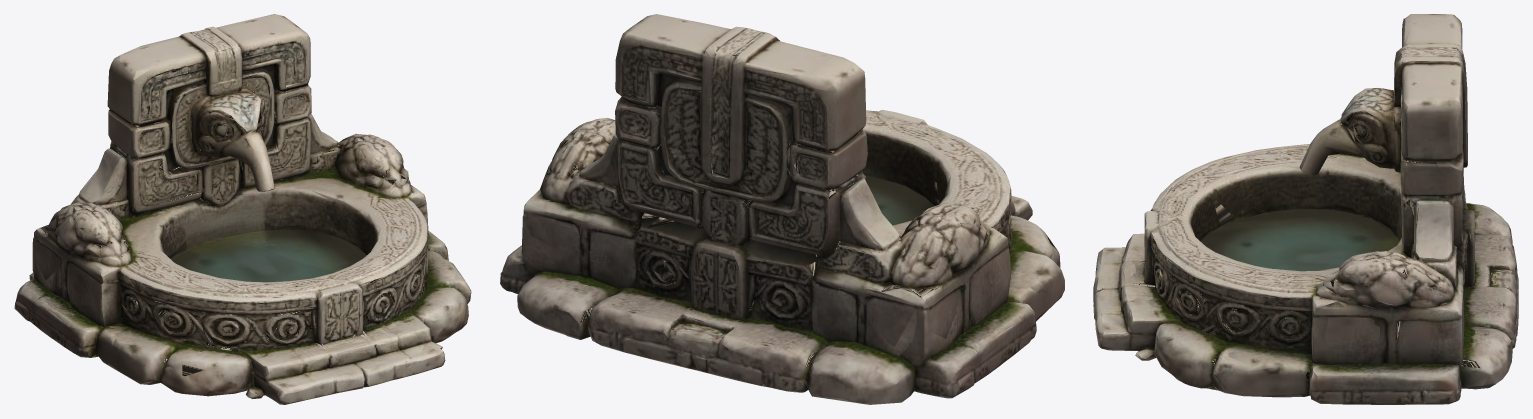
The model's file is eagle_fountain.glb.
The picture shows the model from 3 angles, left to right: view 1: azimuth 30°, elevation 25°; view 2: azimuth 150°, elevation 25°; view 3: azimuth 270°, elevation 25°; orthographic projection. The views are drawn at different scales.
Visible parts, largest first — view 1: turn, mesh_lod; view 2: turn, mesh_lod; view 3: turn, mesh_lod.
Part boxes in pixels (x1=…): turn: x1=14, y1=14, x2=471, y2=404; mesh_lod: x1=15, y1=29, x2=471, y2=404; turn: x1=500, y1=14, x2=1064, y2=404; mesh_lod: x1=500, y1=16, x2=1064, y2=401; turn: x1=1093, y1=14, x2=1518, y2=404; mesh_lod: x1=1093, y1=16, x2=1518, y2=404.
Size of the model in its own units: 4.24 by 2.6 by 3.89.
1 material, 1 textured.
